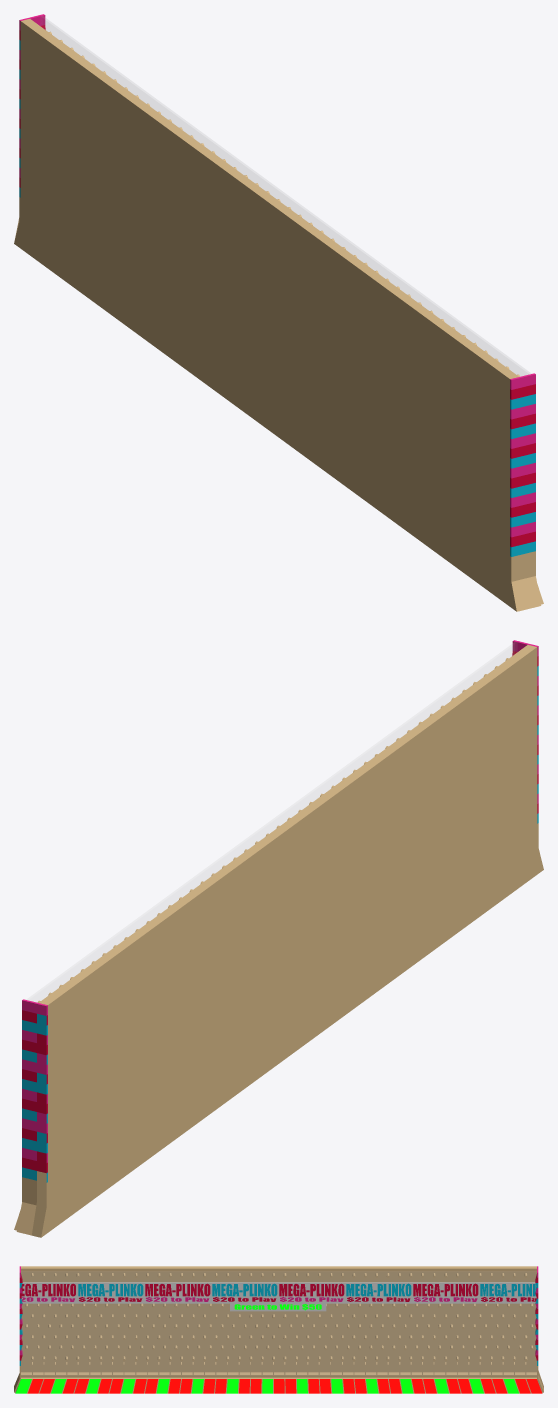
File: PLINKO Board - Giant.glb
3 views of the same model, one above another, from view 1: azimuth 30°, elevation 25°; view 2: azimuth 150°, elevation 25°; view 3: azimuth 270°, elevation 25° (orthographic). The views are drawn at different scales.
Parts seen in each view (by area): view 1: Walls, Screen; view 2: Walls, Screen; view 3: Walls, Screen, Sign, SignText, Pegs.
Boxes of the visible parts, left/top/right/bottom form: Walls: left=14, top=14, right=543, bottom=611; Screen: left=41, top=16, right=530, bottom=375; Walls: left=14, top=640, right=543, bottom=1237; Screen: left=27, top=642, right=514, bottom=1001; Walls: left=14, top=1266, right=543, bottom=1393; Screen: left=21, top=1272, right=536, bottom=1374; Sign: left=21, top=1282, right=536, bottom=1311; SignText: left=21, top=1283, right=536, bottom=1310; Pegs: left=25, top=1273, right=533, bottom=1361.
Size of the model in its own units: 0.9258 by 7.06 by 28.27.
